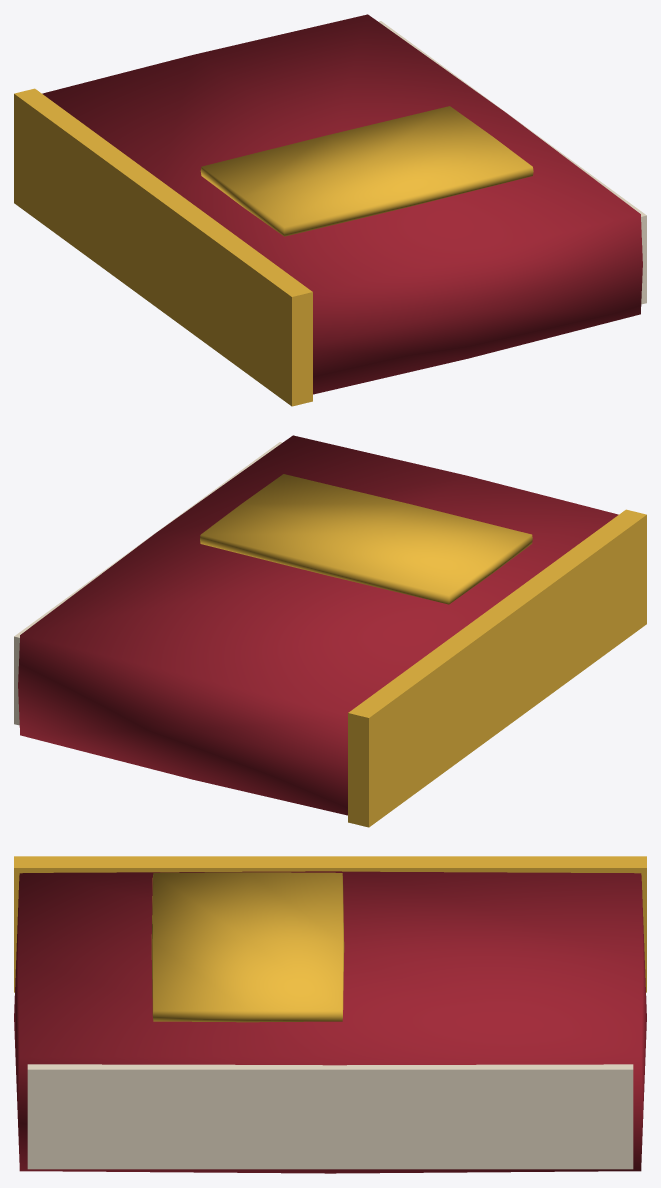
File: book_big.glb
3 views of the same model, one above another, from view 1: azimuth 30°, elevation 25°; view 2: azimuth 150°, elevation 25°; view 3: azimuth 270°, elevation 25° (orthographic). The views are drawn at different scales.
Parts seen in each view (by area): view 1: root; view 2: root; view 3: root.
Part boxes in pixels (x1,y1,x2,y2): root: [14, 14, 646, 406]; root: [14, 435, 646, 827]; root: [14, 856, 646, 1173].
Bounding box in the file's own units: 0.345 × 0.112 × 0.46.
